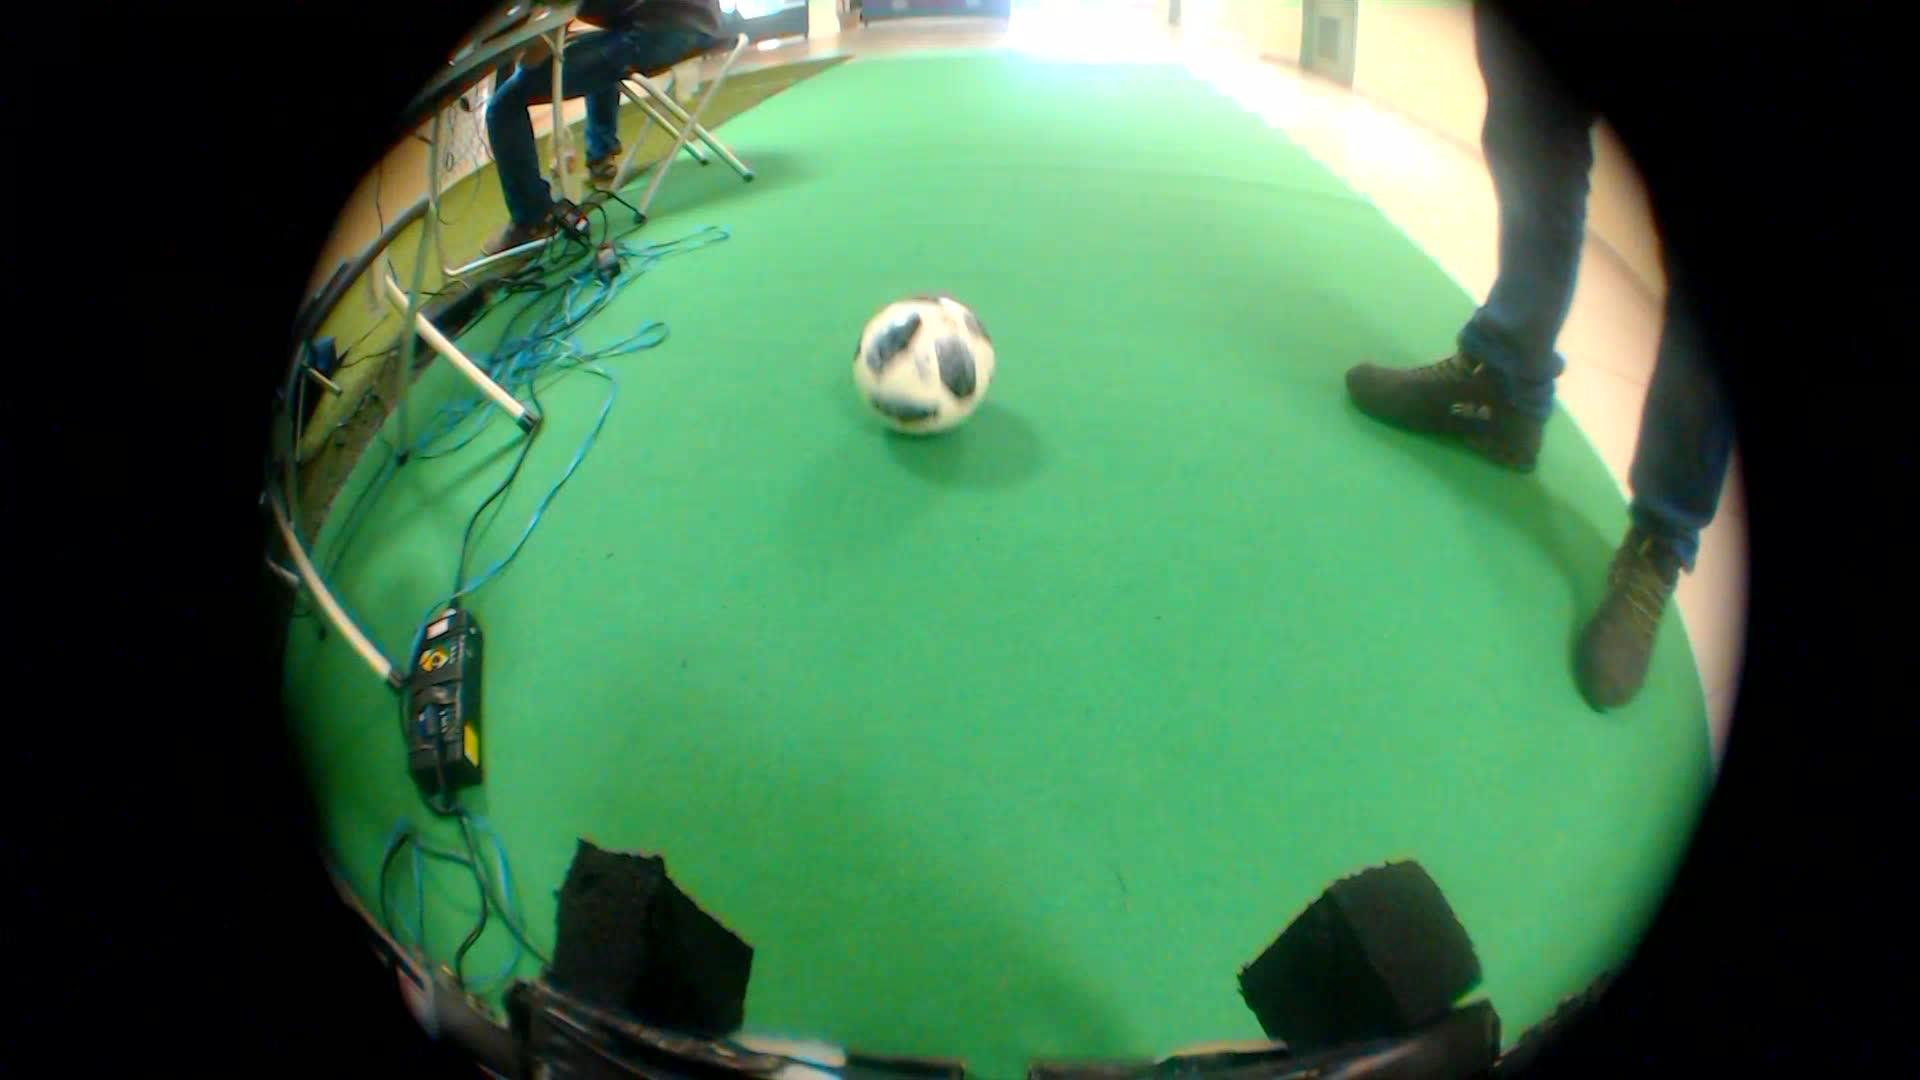ball: (833, 274, 1014, 444)
